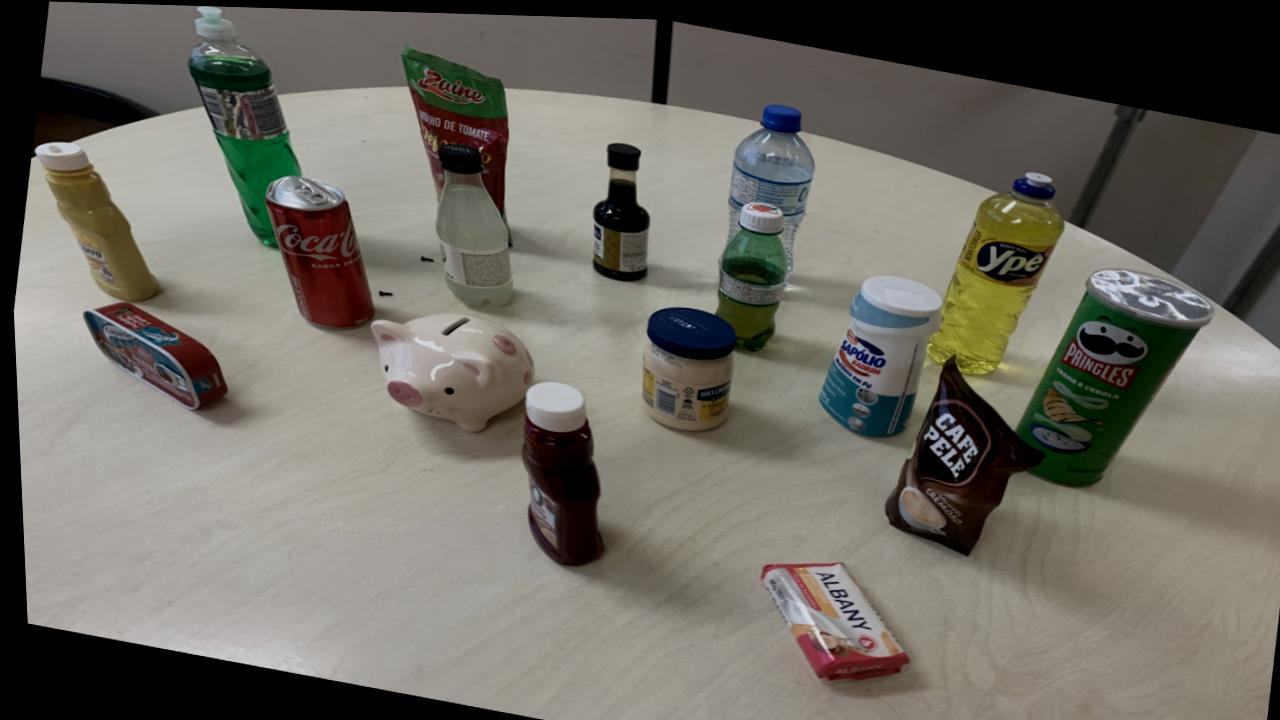Cleaner-Cleanup_Items: (815, 269, 939, 432)
Coffee-Pantry_Items: (880, 352, 1040, 548)
Coke-Drinks: (263, 173, 372, 327)
Detergent-Cleanup_Items: (925, 165, 1063, 368), (188, 5, 300, 244)
English_Sauce-Pantry_Items: (590, 138, 649, 278), (590, 138, 648, 277)
Guarana-Drinks: (714, 197, 786, 346)
Ketchup-Pantry_Items: (518, 378, 599, 562)
Mayonnaise-Pantry_Items: (638, 303, 734, 427)
Mustard-Pantry_Items: (33, 141, 157, 300)
Pig_Safe-Miscellaneous: (366, 309, 532, 429), (367, 310, 532, 429)
Pringles-Snacks: (1012, 262, 1208, 481)
Soap-Cleanup_Items: (755, 557, 902, 676)
Soda-Drinks: (433, 141, 510, 303)
Tomato_Sauce-Pantry_Items: (401, 44, 508, 218)
Tuna_Can-Pantry_Items: (81, 301, 225, 408)
Water_Bottle-Drinks: (726, 99, 814, 263)
